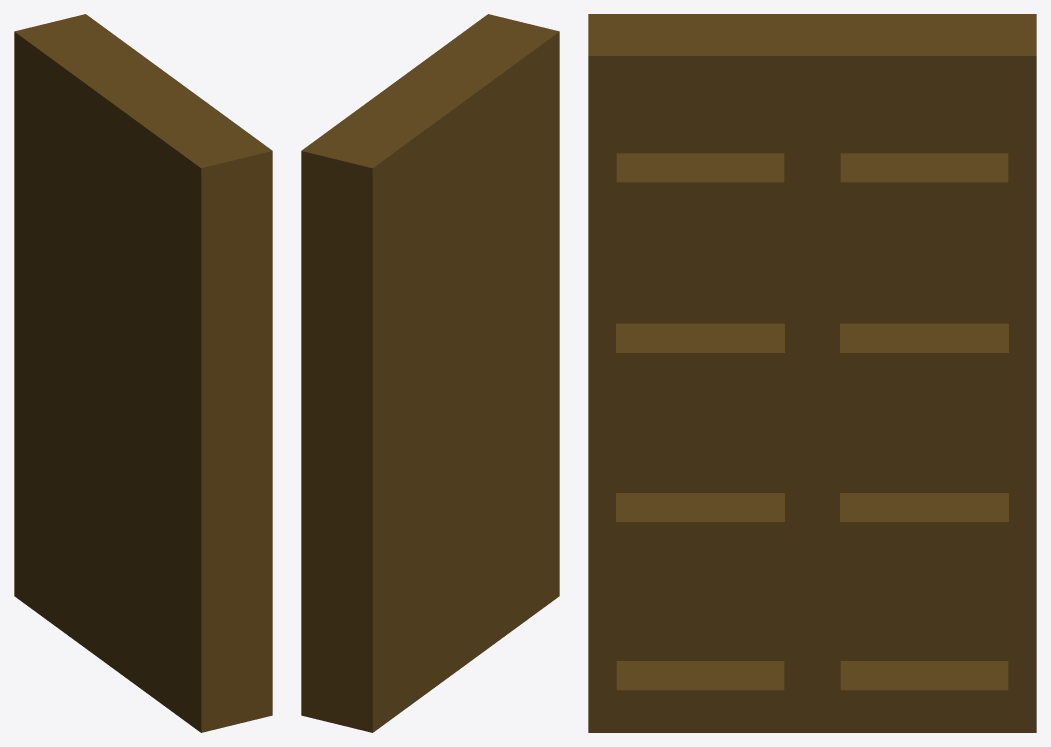
Rendered from szafka.fbx.
3 views of the same model, side by side, from view 1: azimuth 30°, elevation 25°; view 2: azimuth 150°, elevation 25°; view 3: azimuth 270°, elevation 25° (orthographic). The views are drawn at different scales.
Visible parts, largest first — view 1: Cube; view 2: Cube; view 3: Cube.
Part boxes in pixels (<box>): Cube: <box>14,14,272,732</box>; Cube: <box>301,14,559,732</box>; Cube: <box>588,14,1036,732</box>.
Bounding box in the file's own units: 67.13 × 506 × 304.
